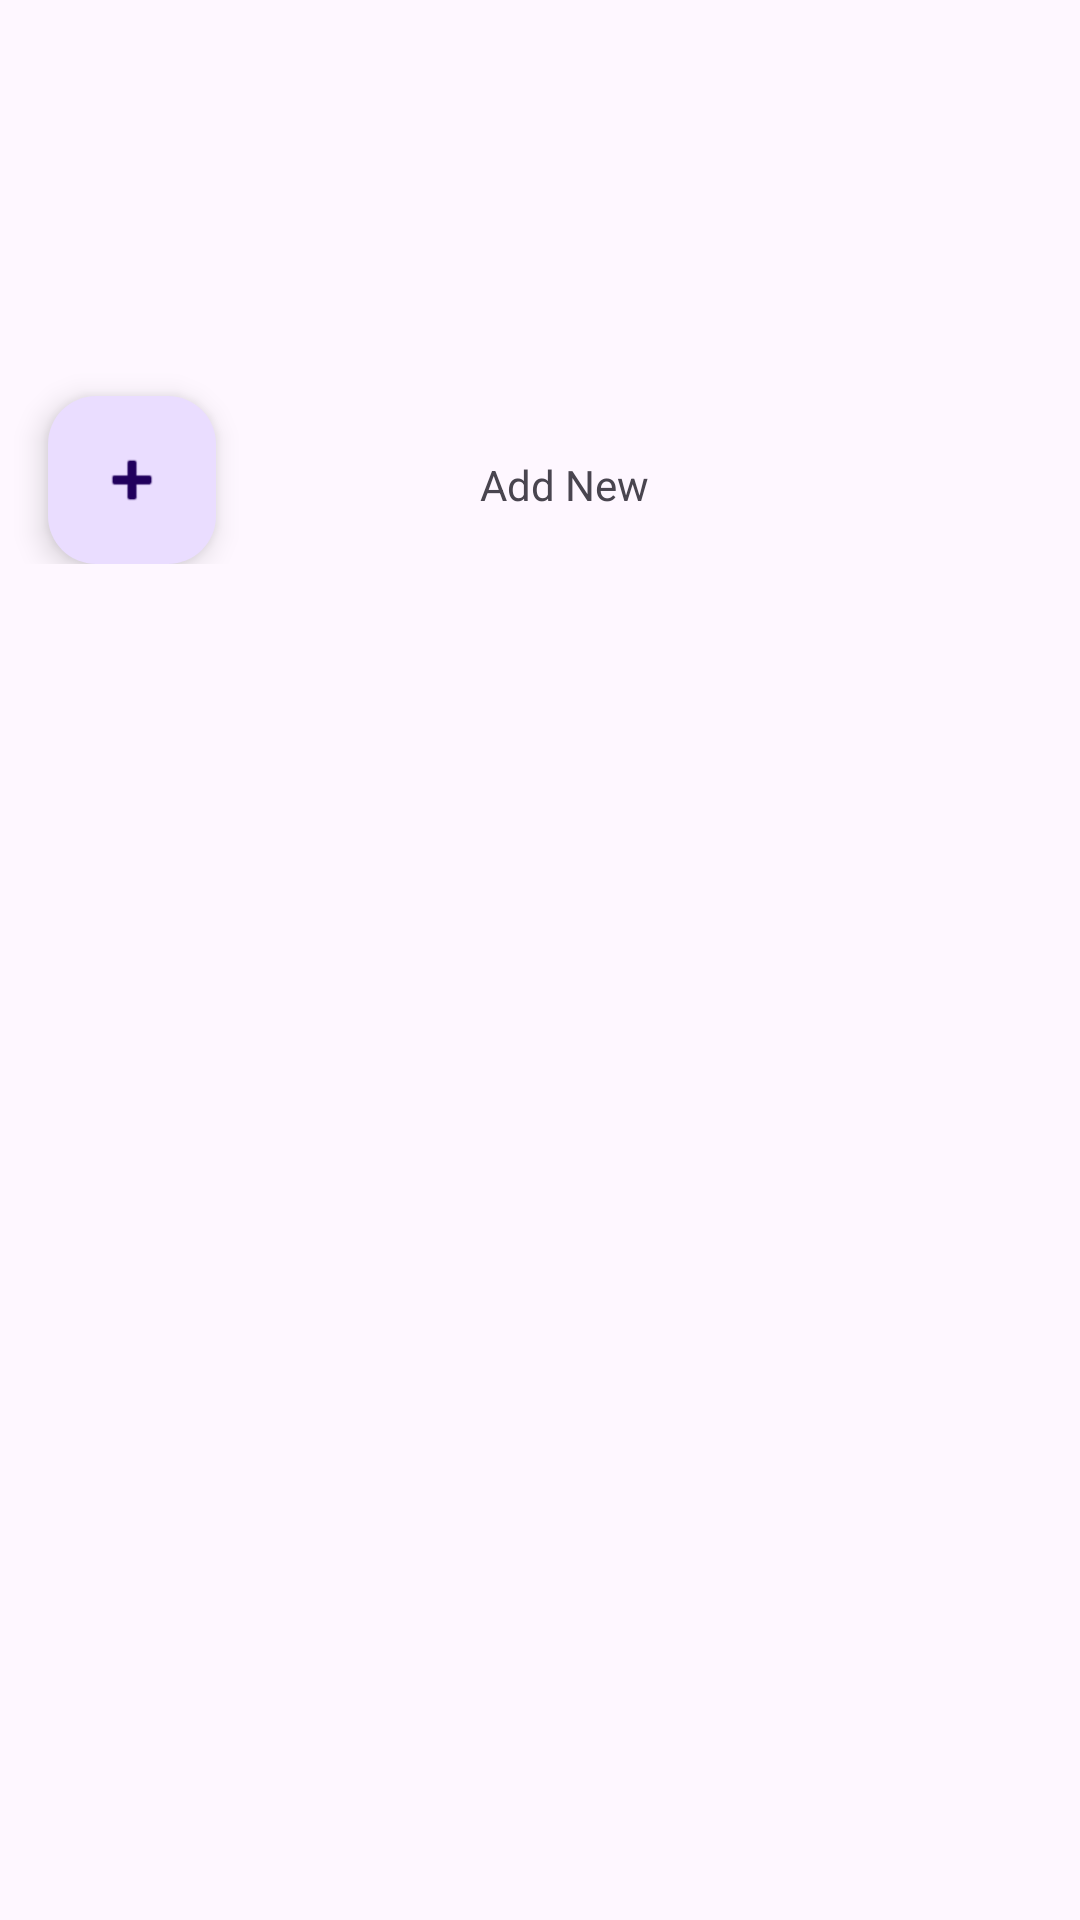

Icons on this 1080x1920 Android screen, each with the point to tap as point (x, y):
add: point (132, 480)
